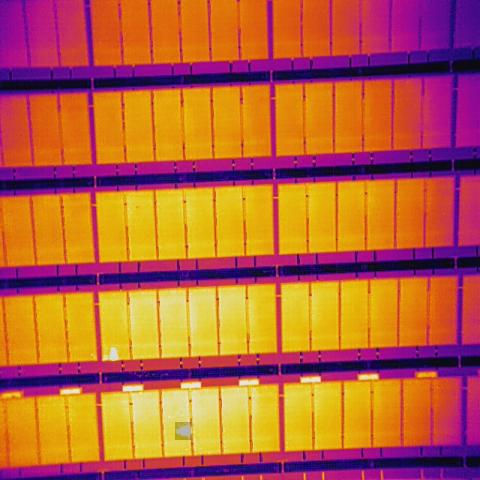fault: (175, 422, 191, 440), (108, 346, 118, 362)
